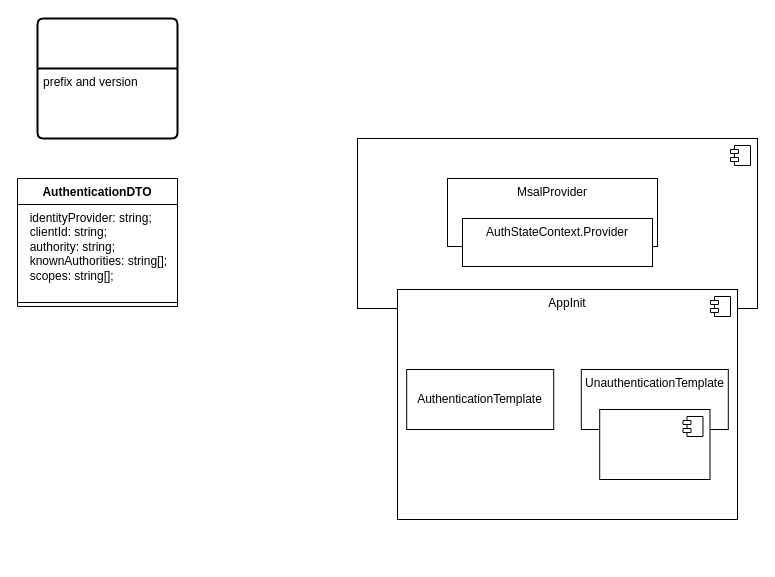
Image size: 775x577. Some labels were removed from this diagram. Here are the shapes that lost their labels. From the top down, the box of each, then its label:
(36, 17, 178, 139): authen service endpoint
(356, 138, 758, 308): AuthProvider
(599, 408, 710, 480): Login
